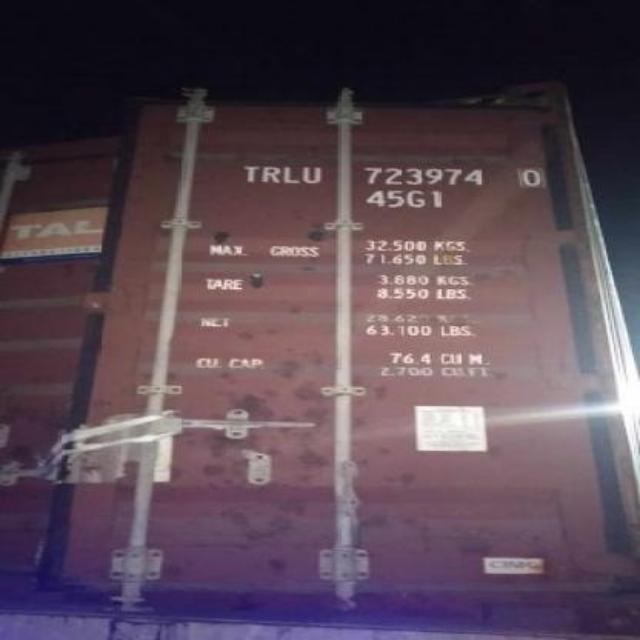0: (516, 165, 550, 191)
2: (382, 162, 404, 186)
3: (401, 158, 422, 186)
4: (462, 158, 484, 188)
7: (442, 160, 464, 188), (356, 162, 382, 184)
9: (422, 159, 444, 189)
L: (278, 156, 302, 190)
R: (260, 161, 282, 187)
T: (234, 160, 260, 188)
U: (302, 162, 324, 188)
